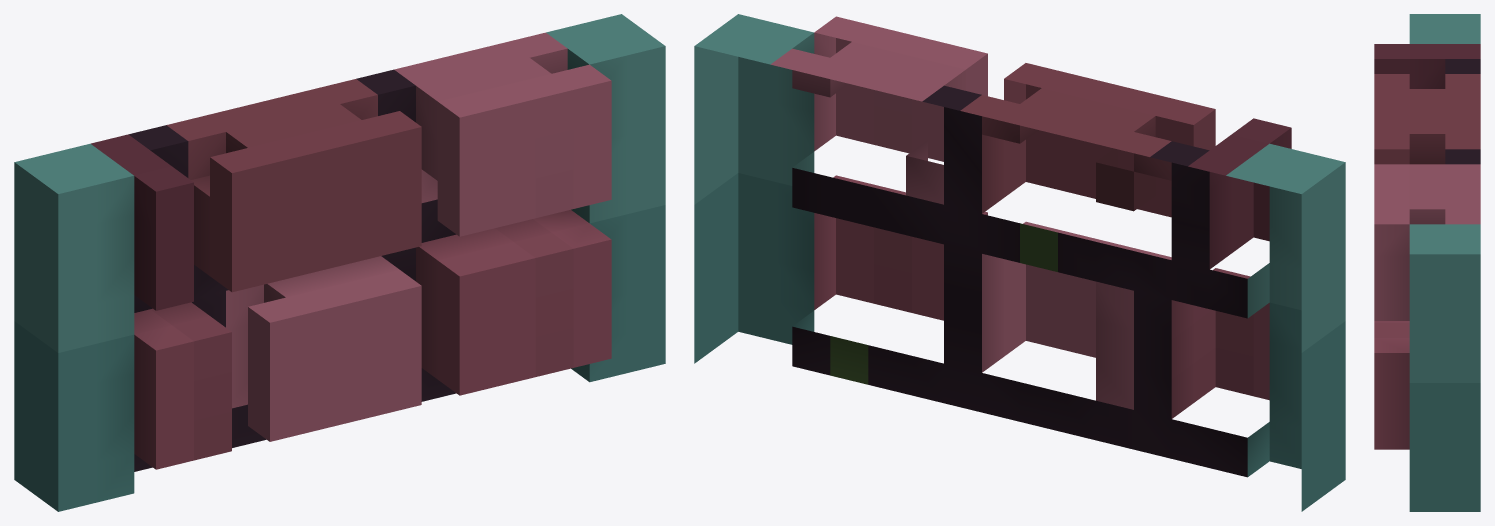
The model's file is wall_plain_0.glb.
3 renders of one model, left to right at view 1: azimuth 30°, elevation 25°; view 2: azimuth 150°, elevation 25°; view 3: azimuth 270°, elevation 25°, orthographic. The views are drawn at different scales.
Visible parts, largest first — view 1: wall_plain_0; view 2: wall_plain_0; view 3: wall_plain_0.
Part boxes in pixels (x1,y1,x2,y2): wall_plain_0: (14, 14, 665, 511); wall_plain_0: (694, 14, 1345, 511); wall_plain_0: (1374, 14, 1480, 511).
Size of the model in its own units: 1 by 0.5 by 0.1875.
